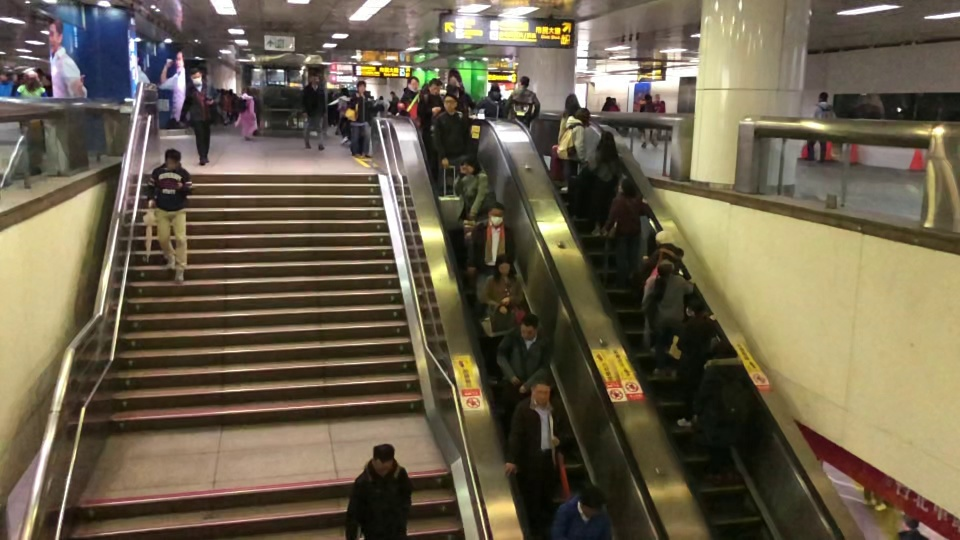person_head: (577, 483, 608, 519), (370, 443, 395, 475), (708, 336, 737, 359), (518, 312, 539, 341), (529, 381, 551, 406), (457, 154, 482, 176), (486, 202, 506, 228), (683, 296, 707, 317), (616, 174, 636, 199), (494, 254, 513, 277), (597, 130, 616, 151), (164, 148, 181, 171), (653, 229, 674, 247), (656, 259, 674, 278), (563, 92, 580, 112), (442, 94, 459, 114), (426, 77, 443, 95), (574, 107, 590, 126), (902, 513, 919, 530), (23, 70, 40, 86), (188, 67, 202, 86), (407, 75, 419, 93), (516, 75, 530, 89), (310, 72, 320, 88), (816, 91, 829, 103), (488, 84, 501, 96), (355, 80, 366, 94), (643, 93, 653, 104), (41, 75, 51, 86), (0, 70, 9, 82), (340, 87, 349, 98), (240, 86, 249, 96), (654, 93, 661, 102), (609, 97, 616, 106), (389, 90, 396, 98), (458, 84, 464, 93), (219, 87, 225, 95), (605, 96, 611, 103), (227, 89, 233, 96), (377, 95, 384, 100)
person_vbox: (503, 381, 567, 540), (691, 335, 752, 485), (495, 312, 553, 435), (344, 443, 414, 540), (146, 148, 193, 283), (465, 202, 516, 326), (641, 259, 694, 377), (600, 174, 653, 292), (674, 296, 720, 428), (479, 254, 524, 387), (583, 130, 623, 237), (178, 67, 220, 166), (433, 93, 472, 193), (549, 483, 614, 540), (416, 77, 445, 183), (346, 80, 385, 158), (637, 229, 692, 282), (452, 154, 489, 222), (557, 92, 581, 192), (804, 91, 837, 163), (502, 75, 541, 128), (301, 72, 327, 151), (564, 107, 591, 177), (233, 85, 257, 142), (327, 87, 350, 145), (397, 75, 422, 120), (639, 93, 659, 149), (894, 513, 932, 540), (477, 84, 505, 119), (14, 70, 47, 97), (652, 93, 666, 140), (458, 84, 476, 116), (0, 70, 20, 98), (225, 88, 234, 124), (387, 90, 399, 116), (373, 95, 388, 115), (219, 87, 226, 127), (41, 75, 52, 97), (607, 97, 621, 112), (600, 96, 611, 111)
